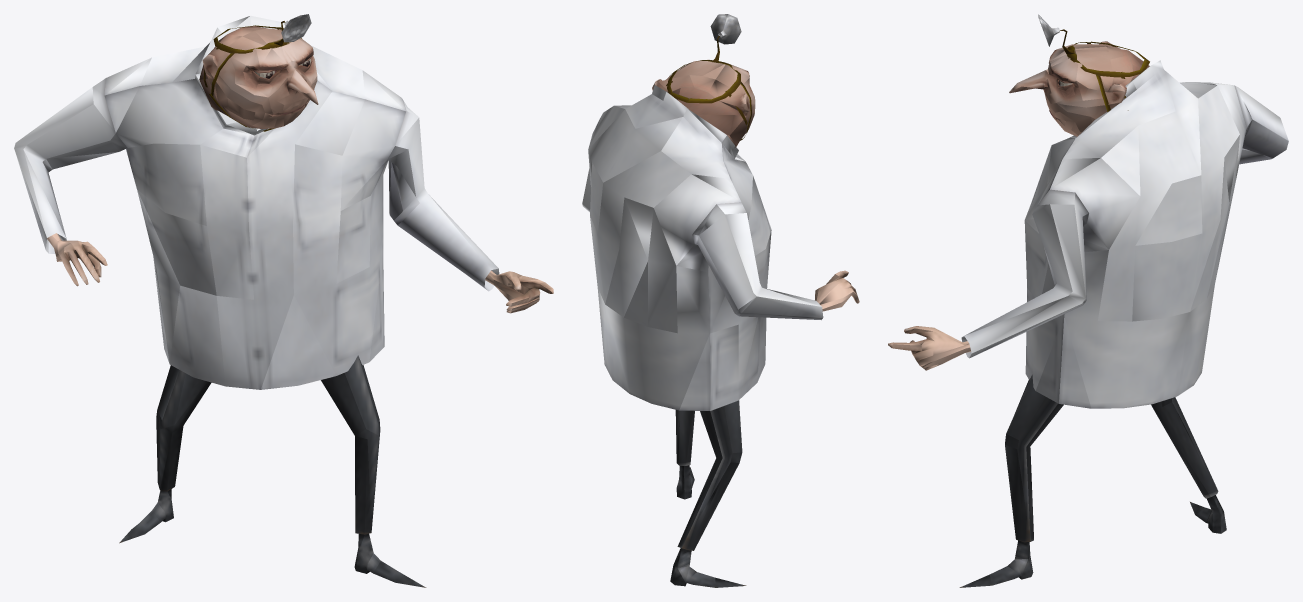
The model's file is grudentist.glb.
3 views of the same model, side by side, from view 1: azimuth 30°, elevation 25°; view 2: azimuth 150°, elevation 25°; view 3: azimuth 270°, elevation 25° (orthographic). The views are drawn at different scales.
Parts seen in each view (by area): view 1: Object_2, Object_3; view 2: Object_2, Object_3; view 3: Object_2, Object_3.
Part boxes in pixels (<box>): Object_2: <box>14,14,553,587</box>; Object_3: <box>199,26,318,128</box>; Object_2: <box>582,14,859,587</box>; Object_3: <box>652,59,755,147</box>; Object_2: <box>888,14,1288,587</box>; Object_3: <box>1009,41,1149,136</box>.
Size of the model in its own units: 0.0868 by 0.1267 by 0.0865.
Materials: 2 (2 with a texture image).
